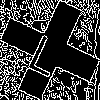L: (25, 25, 69, 78)
